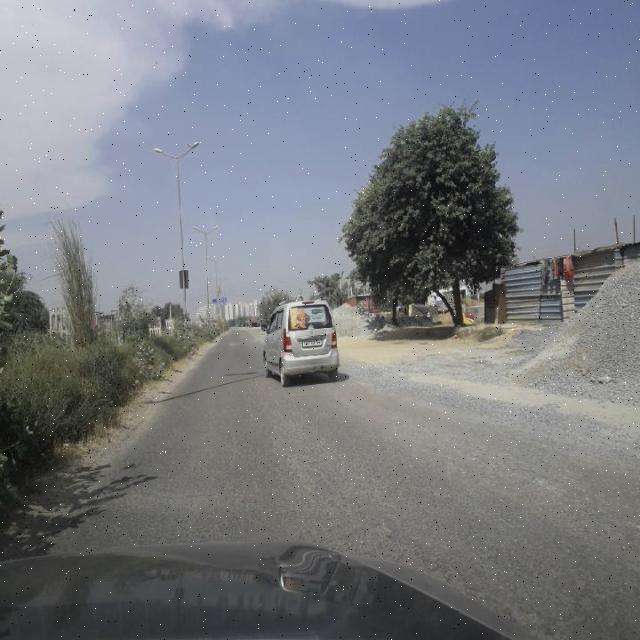D20: (80, 417, 579, 547)
D40: (339, 506, 474, 574)
